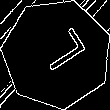L_SW: (27, 27, 86, 80)
